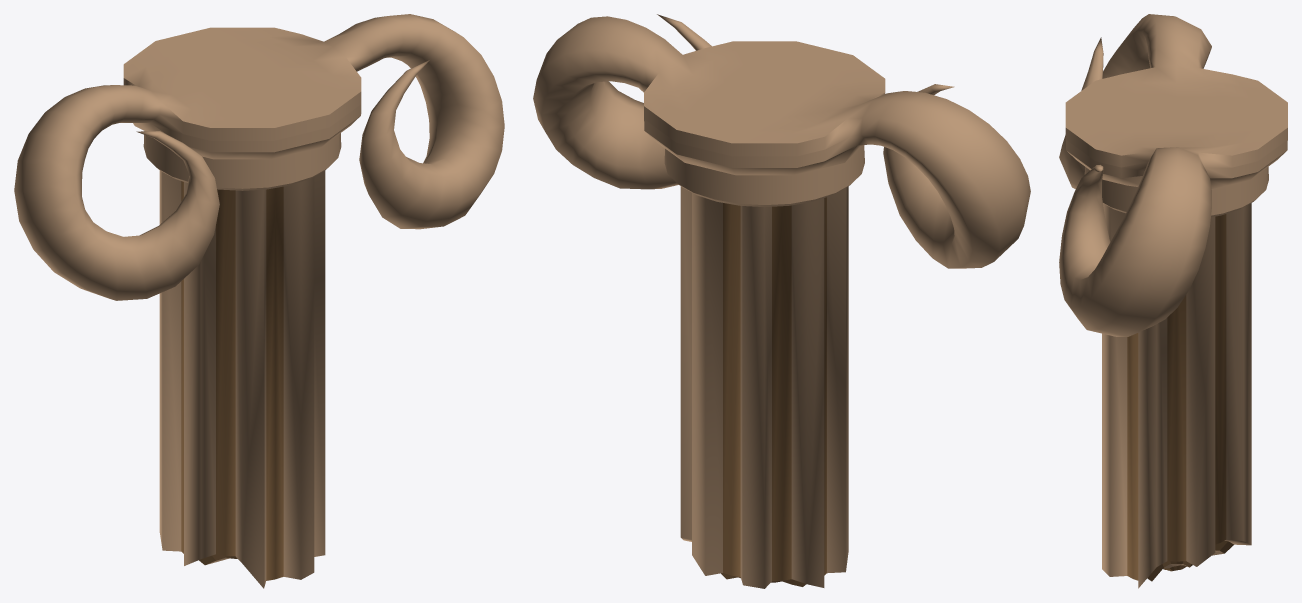
The model's file is Broken_Pillar_Top.fbx.
The picture shows the model from 3 angles, left to right: view 1: azimuth 30°, elevation 25°; view 2: azimuth 150°, elevation 25°; view 3: azimuth 270°, elevation 25°; orthographic projection. The views are drawn at different scales.
Visible parts, largest first — view 1: Pillar_Top; view 2: Pillar_Top; view 3: Pillar_Top.
Boxes of the visible parts, <box> form: Pillar_Top: <box>14,14,504,588</box>; Pillar_Top: <box>533,14,1030,588</box>; Pillar_Top: <box>1059,14,1287,588</box>.
Bounding box in the file's own units: 439 × 199 × 455.
